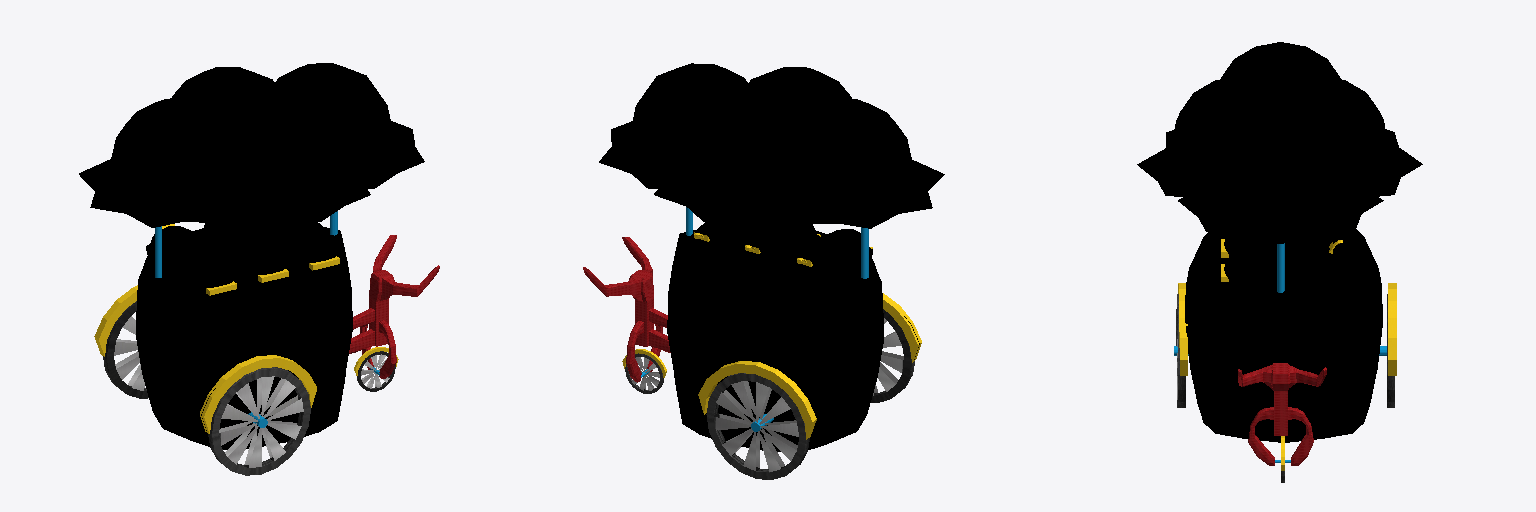
3 views of the same model, side by side, from view 1: azimuth 30°, elevation 25°; view 2: azimuth 150°, elevation 25°; view 3: azimuth 270°, elevation 25° (orthographic).
Visible parts, largest first — view 1: pCube5, pCube18, pCube17, pCube20, pCylinder11, pCube6, pCube10, pCube13, pCube19, pCube14, pCylinder1, pCylinder12 (+2 smaller); view 2: pCube5, pCube18, pCube19, pCube20, pCylinder1, pCube10, pCube6, pCube13, pCube17, pCube14, pCylinder3, pCylinder11 (+2 smaller); view 3: pCube5, pCube20, pCube17, pCube19, pCube14, pCube6, pCube18, pCube13, pCylinder3, pCylinder12.
Boxes of the visible parts, x1,y1,x2,y2 form: pCube5: [136, 227, 352, 449]; pCube18: [79, 98, 232, 227]; pCube17: [224, 96, 370, 225]; pCube20: [275, 63, 424, 188]; pCylinder11: [208, 367, 310, 475]; pCube6: [349, 235, 439, 378]; pCube10: [146, 226, 236, 292]; pCube13: [198, 222, 288, 279]; pCube19: [172, 67, 276, 111]; pCube14: [254, 220, 339, 266]; pCylinder1: [103, 301, 148, 398]; pCylinder12: [200, 355, 316, 433]; pCube5: [667, 230, 883, 451]; pCube18: [790, 98, 944, 228]; pCube19: [654, 96, 799, 225]; pCube20: [599, 63, 747, 188]; pCylinder1: [706, 373, 809, 479]; pCube10: [782, 229, 872, 296]; pCube6: [583, 237, 670, 382]; pCube13: [730, 223, 821, 283]; pCube17: [747, 67, 851, 111]; pCube14: [679, 221, 769, 270]; pCylinder3: [698, 361, 816, 439]; pCylinder11: [871, 309, 914, 402]; pCube5: [1185, 229, 1382, 442]; pCube20: [1178, 112, 1383, 243]; pCube17: [1137, 76, 1279, 196]; pCube19: [1280, 76, 1422, 196]; pCube14: [1224, 242, 1344, 285]; pCube6: [1238, 363, 1326, 465]; pCube18: [1221, 42, 1340, 88]; pCube13: [1224, 233, 1344, 258]; pCylinder3: [1388, 283, 1396, 375]; pCylinder12: [1178, 283, 1187, 375].
Bounding box in the file's own units: 6.76 × 6.63 × 5.07.
Materials: 9 (4 with a texture image).